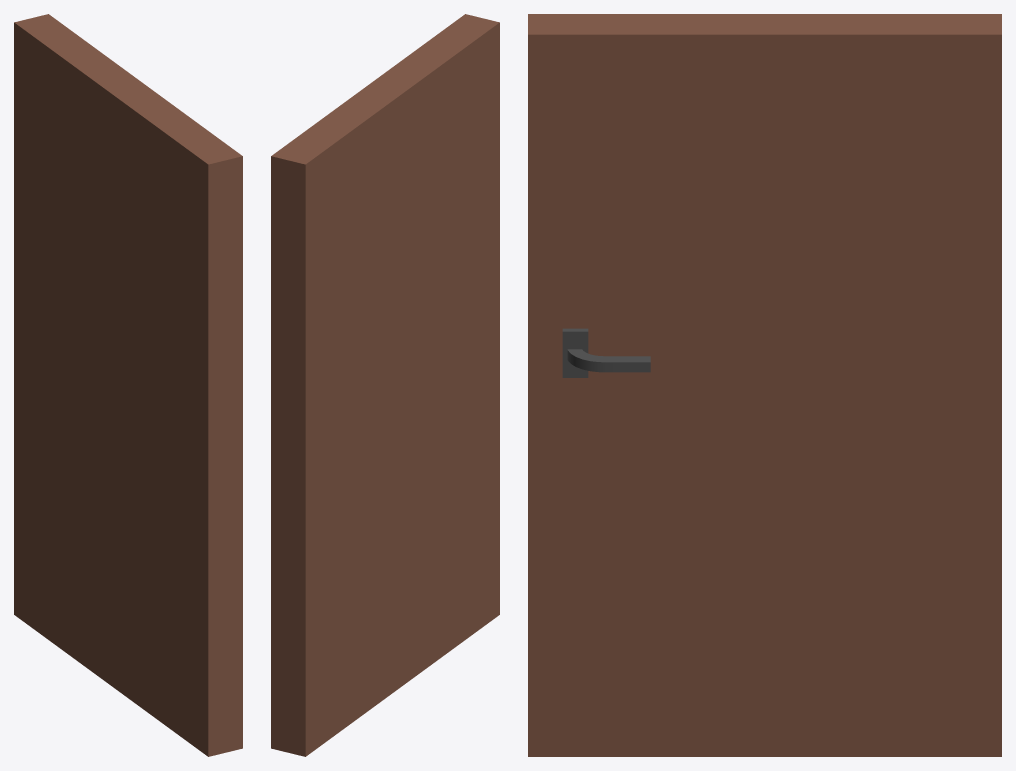
The model's file is Bedroom-Door.fbx.
3 views of the same model, side by side, from view 1: azimuth 30°, elevation 25°; view 2: azimuth 150°, elevation 25°; view 3: azimuth 270°, elevation 25° (orthographic). The views are drawn at different scales.
Parts seen in each view (by area): view 1: pCube318; view 2: pCube318; view 3: pCube318.
Boxes of the visible parts, box(x1,y1,x2,y2) form: pCube318: box(14, 14, 242, 756); pCube318: box(271, 14, 499, 756); pCube318: box(528, 14, 1001, 756).
Bounding box in the file's own units: 0.9057 × 8.41 × 5.
